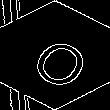O_NE: (19, 22, 91, 88)
